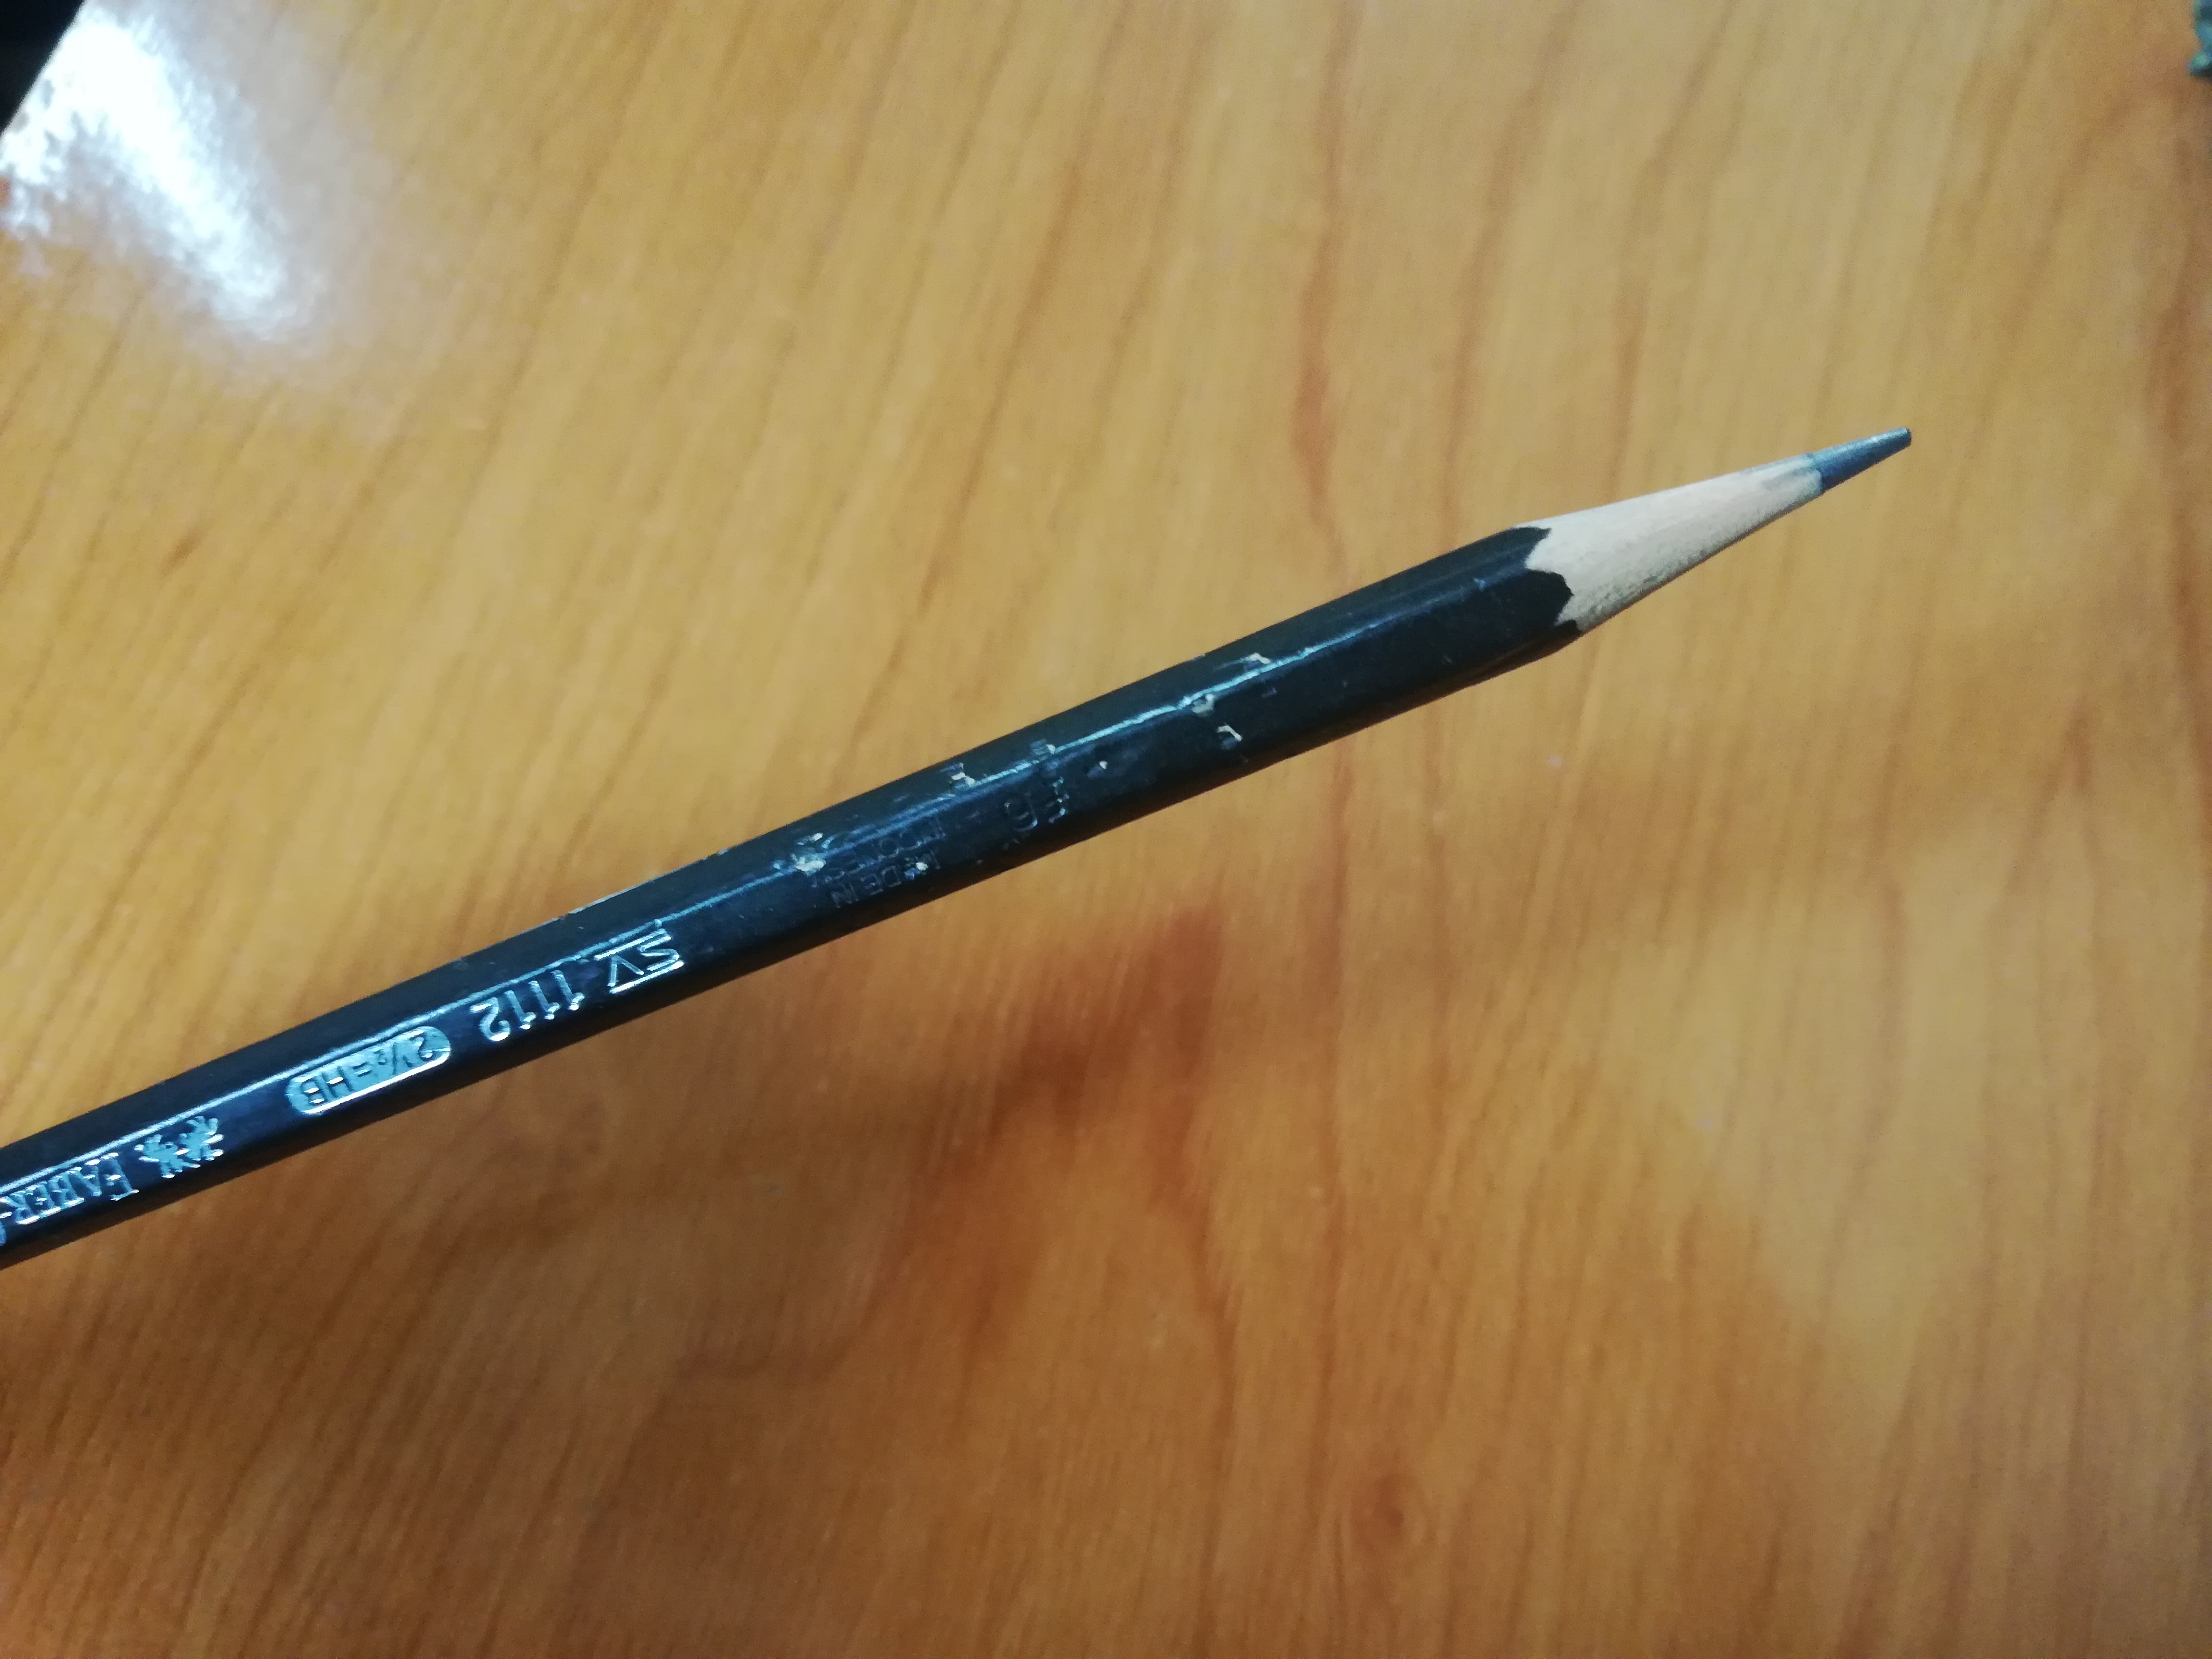pen_tip: (1393, 263, 1996, 779)
